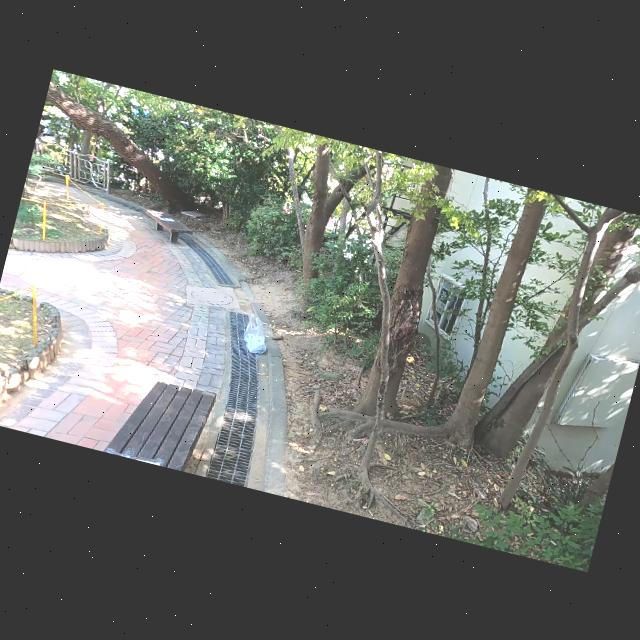trash: (240, 311, 270, 346), (241, 332, 270, 356)
